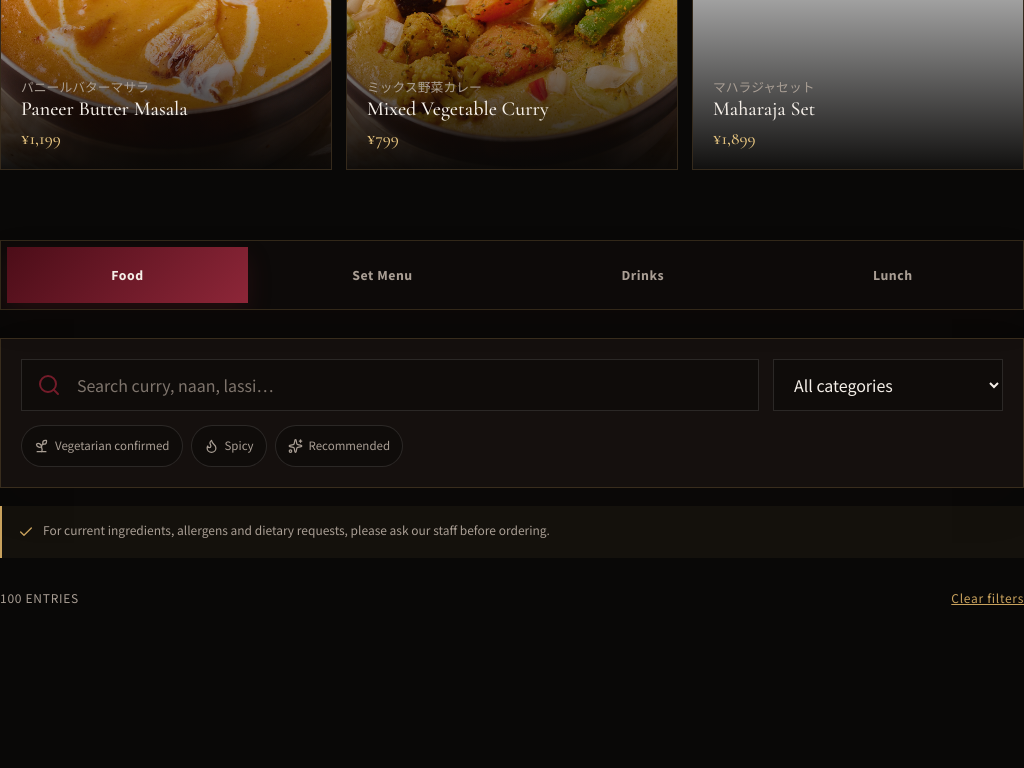
Test case: MenuExplorer item details › filters by category and reflects the state in the URL
The width and height of the screenshot is (1024, 768).
(page scrolled)
Select "Salads" in the dropdown: (888,385) [774,360,1002,410]
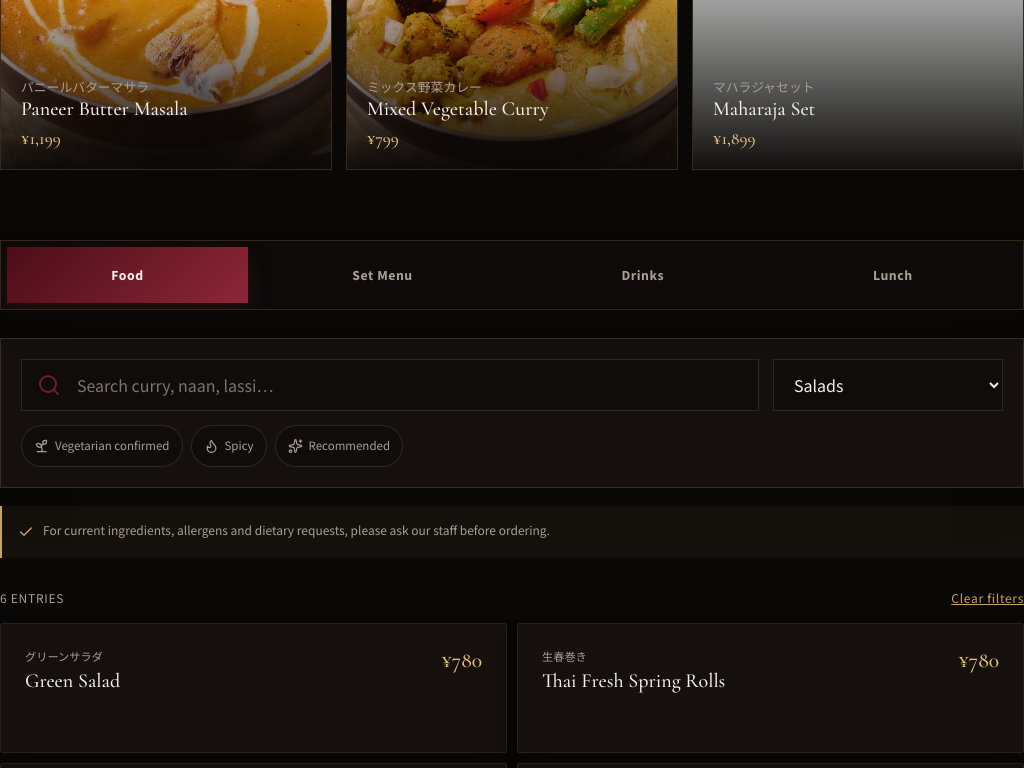
Expected: the heading "Green Salad" is shown, [25,669,120,693]
